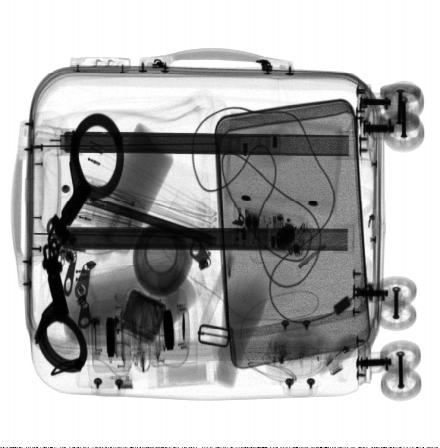HandCuffs: (32, 110, 126, 375)
